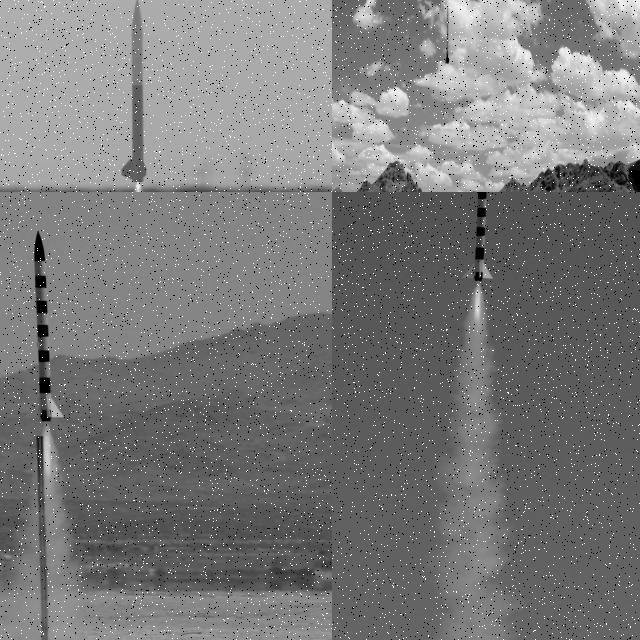Rocket: (22, 228, 67, 424), (119, 0, 149, 183), (459, 192, 493, 282), (445, 5, 450, 64)
